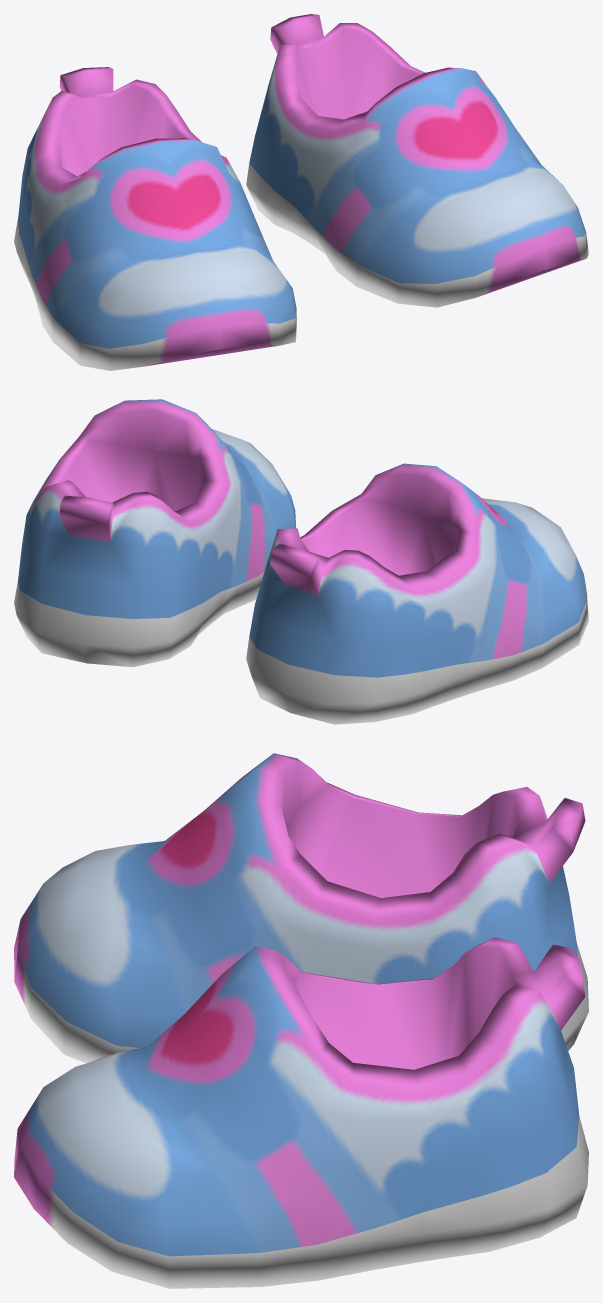
File: ShoesHighcutCute0.glb
The picture shows the model from 3 angles, top to bottom: view 1: azimuth 30°, elevation 25°; view 2: azimuth 150°, elevation 25°; view 3: azimuth 270°, elevation 25°; orthographic projection. The views are drawn at different scales.
Parts seen in each view (by area): view 1: Body__mShoes; view 2: Body__mShoes; view 3: Body__mShoes.
Boxes of the visible parts, box(x1,y1,x2,y2) form: Body__mShoes: box(14, 14, 588, 370); Body__mShoes: box(14, 399, 588, 724); Body__mShoes: box(14, 753, 588, 1288).
Size of the model in its own units: 3.63 by 1.21 by 2.52.
Materials: 1 (1 with a texture image).
